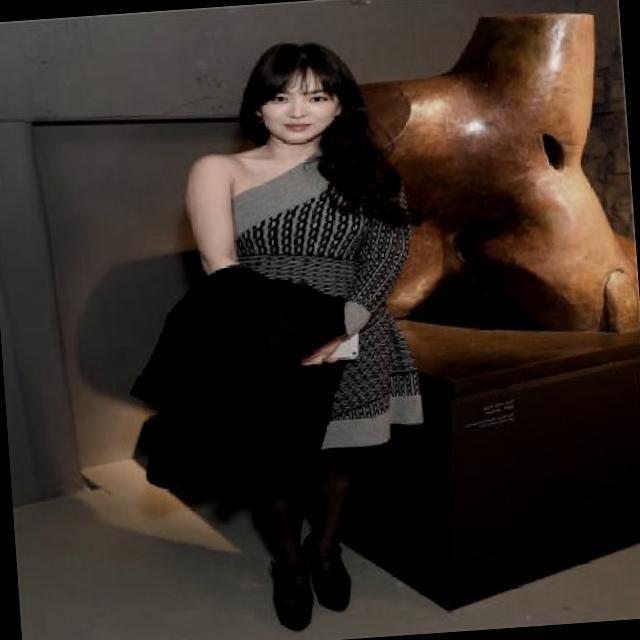Person: (105, 25, 448, 640)
